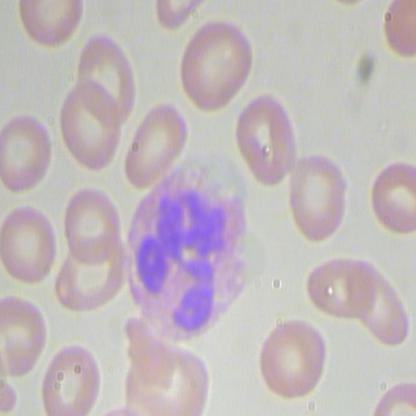RBC: (276, 149, 354, 250), (176, 18, 257, 115), (120, 95, 190, 191), (56, 76, 125, 172), (73, 29, 142, 124), (233, 88, 298, 187), (256, 316, 331, 401), (298, 251, 374, 322), (1, 202, 63, 286), (1, 110, 63, 194), (64, 184, 126, 267), (37, 338, 100, 415), (367, 151, 415, 237)
WBC: (116, 151, 261, 342)
